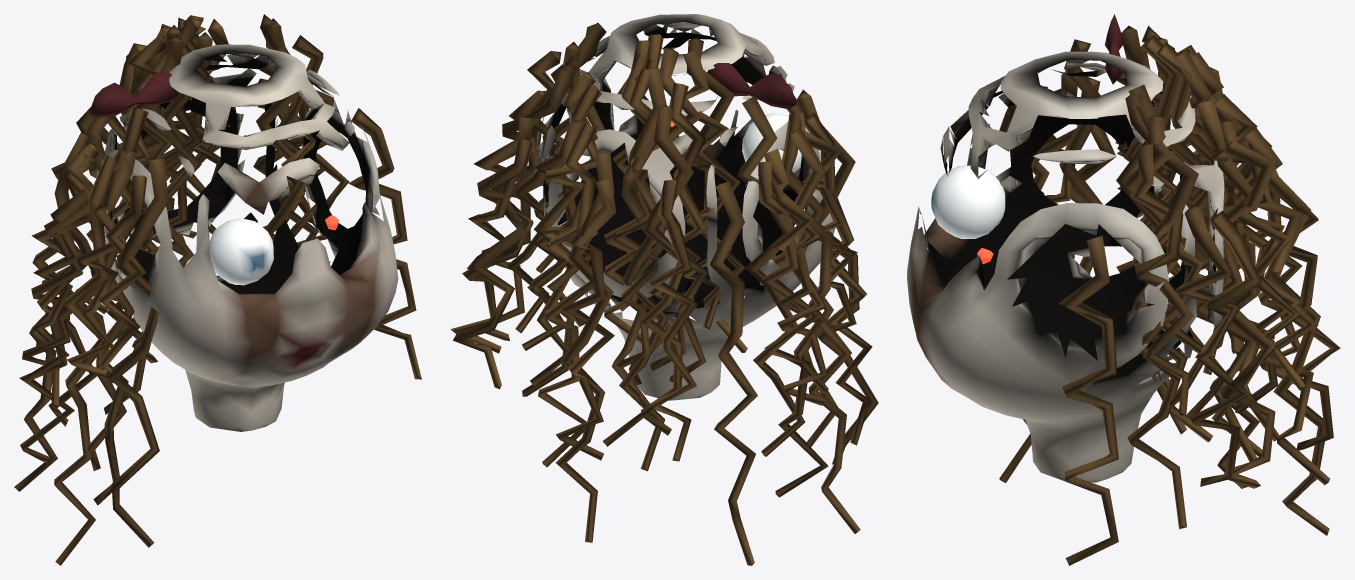
File: doll_head_xlo.glb
3 views of the same model, side by side, from view 1: azimuth 30°, elevation 25°; view 2: azimuth 150°, elevation 25°; view 3: azimuth 270°, elevation 25° (orthographic). The views are drawn at different scales.
Visible parts, largest first — view 1: doll_head; view 2: doll_head; view 3: doll_head.
Part boxes in pixels (<box>): doll_head: <box>14,14,421,565</box>; doll_head: <box>450,14,878,565</box>; doll_head: <box>907,14,1340,565</box>.
Size of the model in its own units: 0.2952 by 0.3683 by 0.2683.
